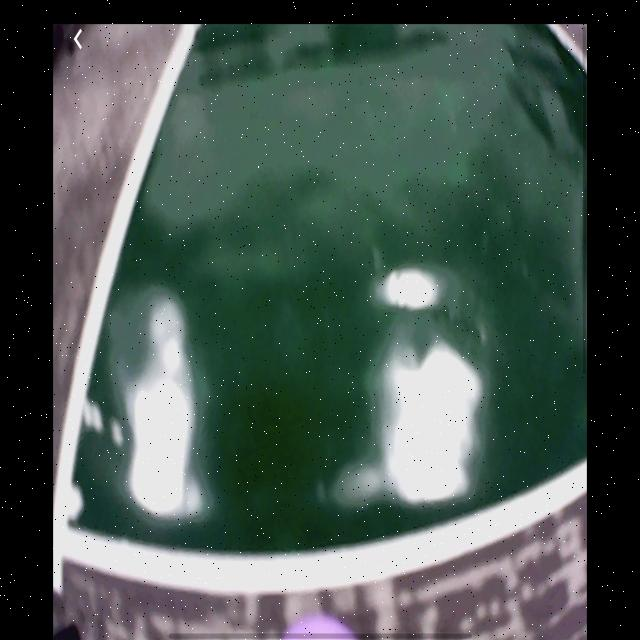ball: (280, 612, 357, 638)
